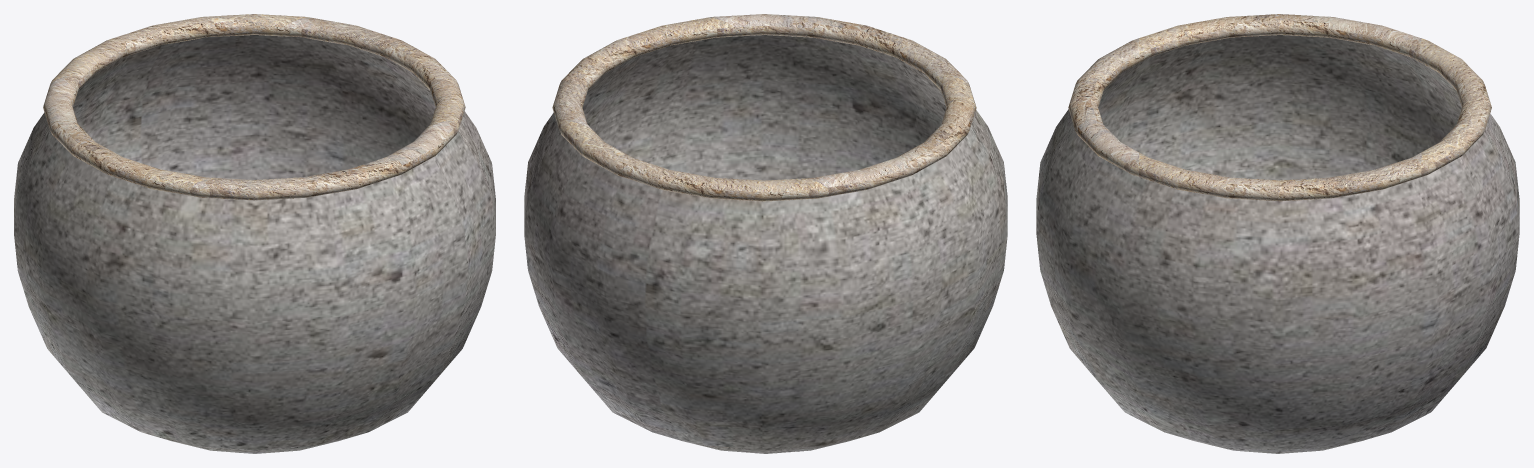
The model's file is shuigang.FBX.
3 renders of one model, left to right at view 1: azimuth 30°, elevation 25°; view 2: azimuth 150°, elevation 25°; view 3: azimuth 270°, elevation 25°, orthographic.
Visible parts, largest first — view 1: Cylinder001, Torus001; view 2: Cylinder001, Torus001; view 3: Cylinder001, Torus001.
Boxes of the visible parts, bbox=[...] form: Cylinder001: bbox=[14, 35, 495, 453]; Torus001: bbox=[43, 14, 465, 200]; Cylinder001: bbox=[524, 35, 1007, 453]; Torus001: bbox=[552, 14, 976, 201]; Cylinder001: bbox=[1036, 35, 1519, 453]; Torus001: bbox=[1068, 14, 1491, 201].
Size of the model in its own units: 151 by 102 by 149.
2 materials, 2 textured.
